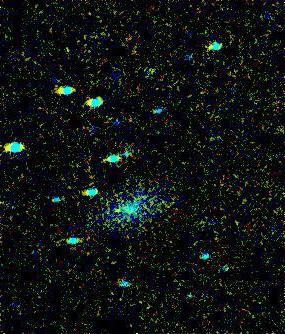star: (103, 195, 133, 225)
